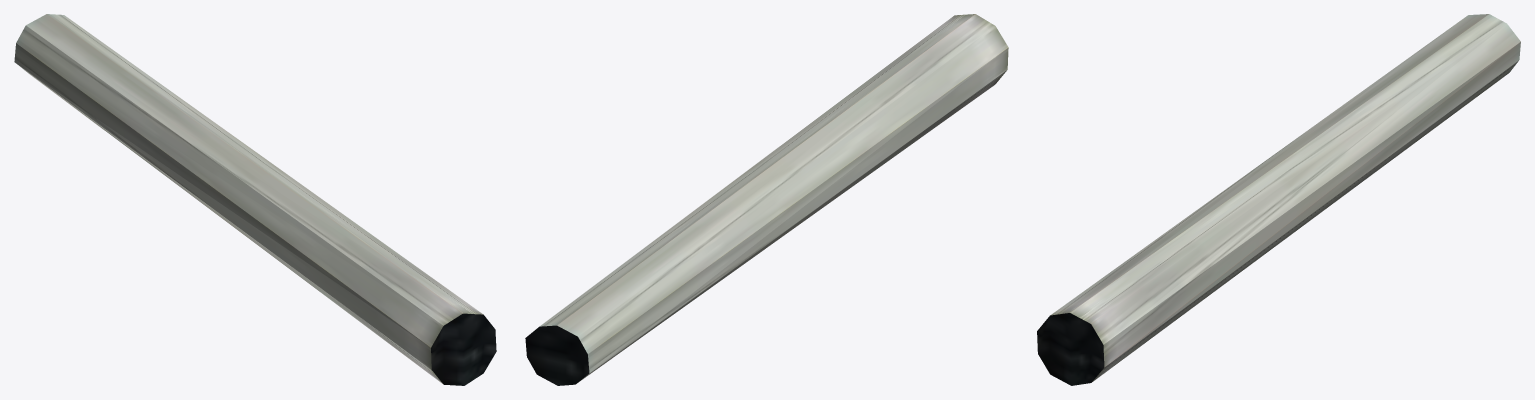
File: ITMI_JOINT_US.glb
The picture shows the model from 3 angles, left to right: view 1: azimuth 30°, elevation 25°; view 2: azimuth 150°, elevation 25°; view 3: azimuth 330°, elevation 25°; orthographic projection.
Visible parts, largest first — view 1: ITMI_JOINT_US; view 2: ITMI_JOINT_US; view 3: ITMI_JOINT_US.
Part boxes in pixels (left/top/right/bottom): ITMI_JOINT_US: left=14, top=14, right=496, bottom=385; ITMI_JOINT_US: left=525, top=14, right=1008, bottom=385; ITMI_JOINT_US: left=1037, top=14, right=1520, bottom=385.
Bounding box in the file's own units: 0.0144 × 0.015 × 0.1566.
Materials: 1 (1 with a texture image).
